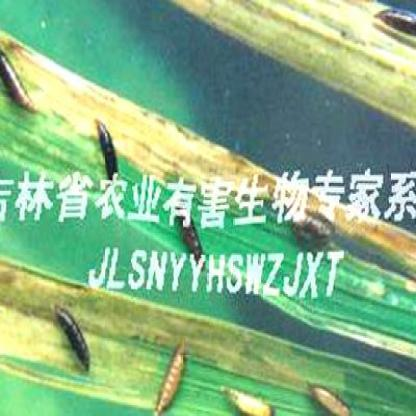whorl-maggot: (54, 302, 94, 378), (155, 336, 187, 416), (1, 48, 36, 121), (223, 379, 274, 416), (307, 374, 351, 416), (94, 119, 118, 171), (373, 2, 416, 31)
